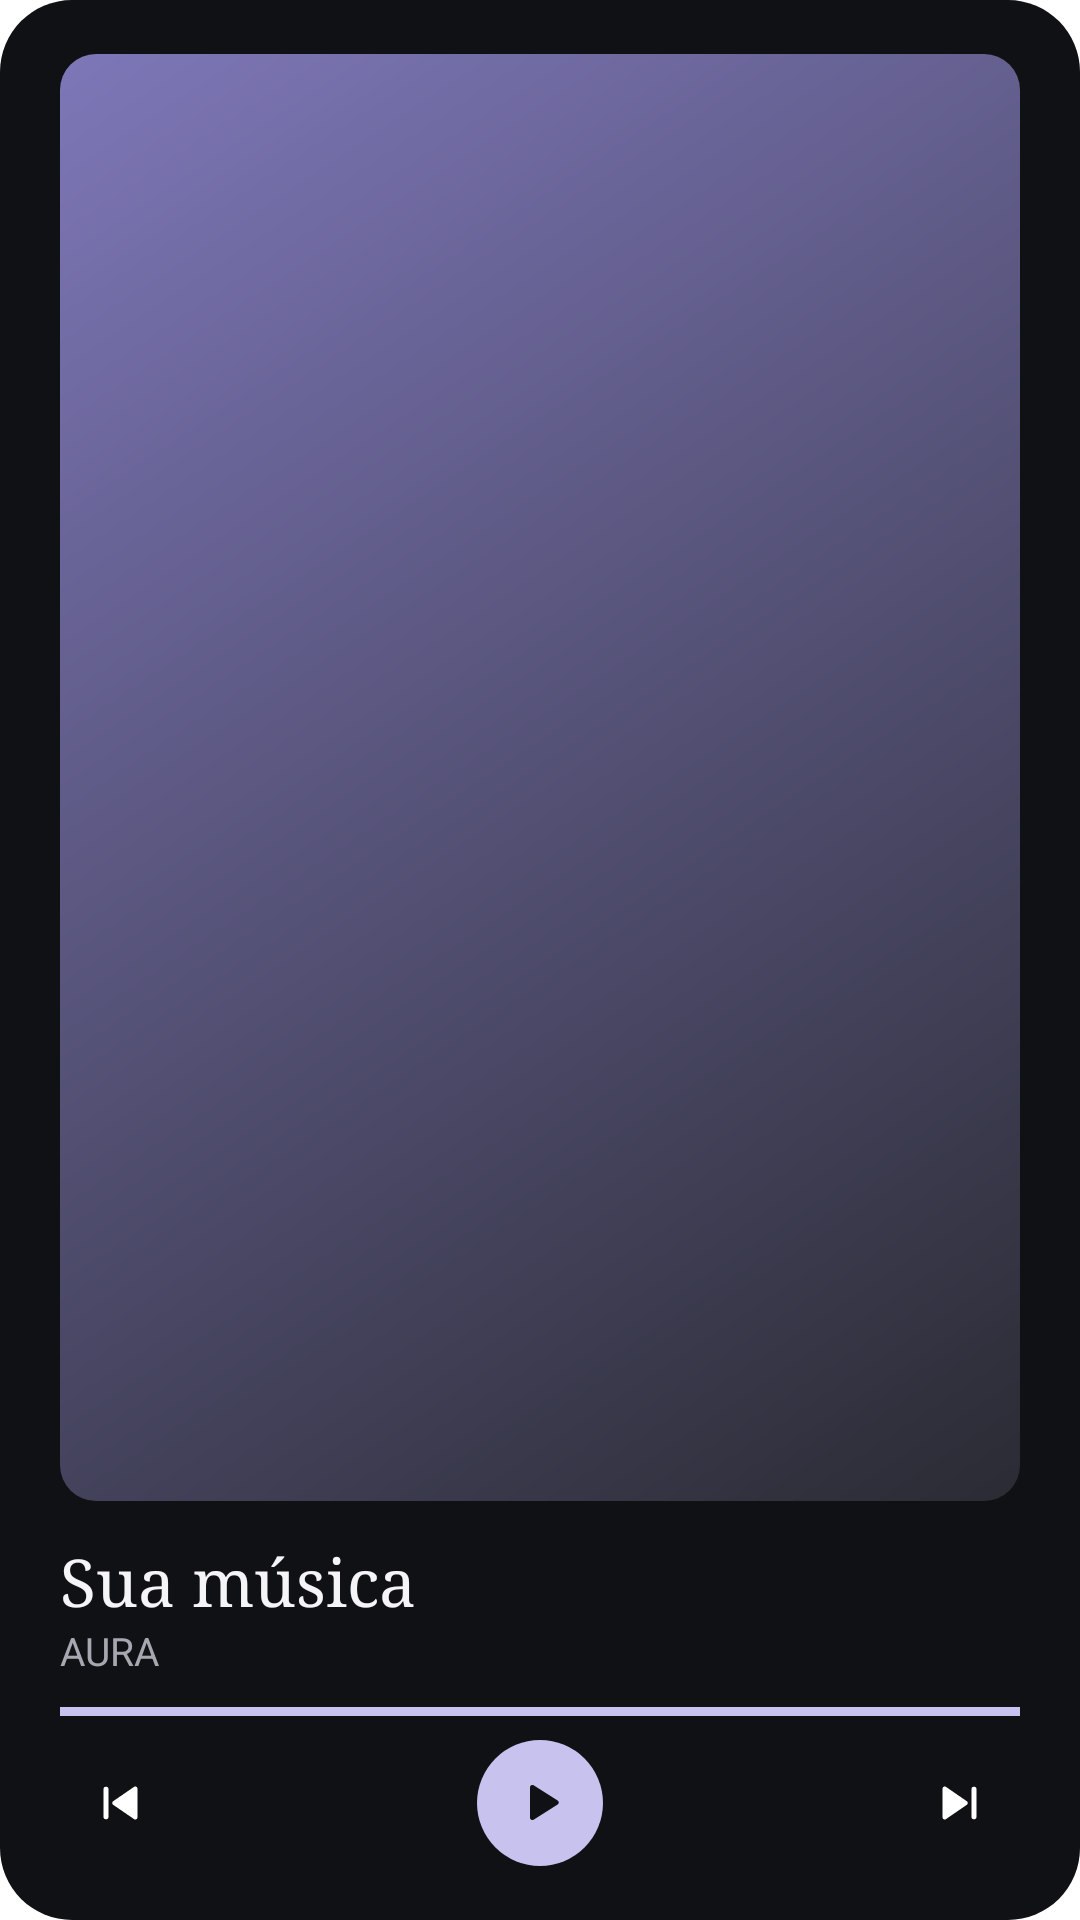

Where icons sit on this 1080 × 1920 app screen, as (x1, y1, x2, y2):
widget next: (942, 1786, 977, 1820)
widget play: (530, 1785, 559, 1820)
widget previous: (103, 1786, 138, 1820)
